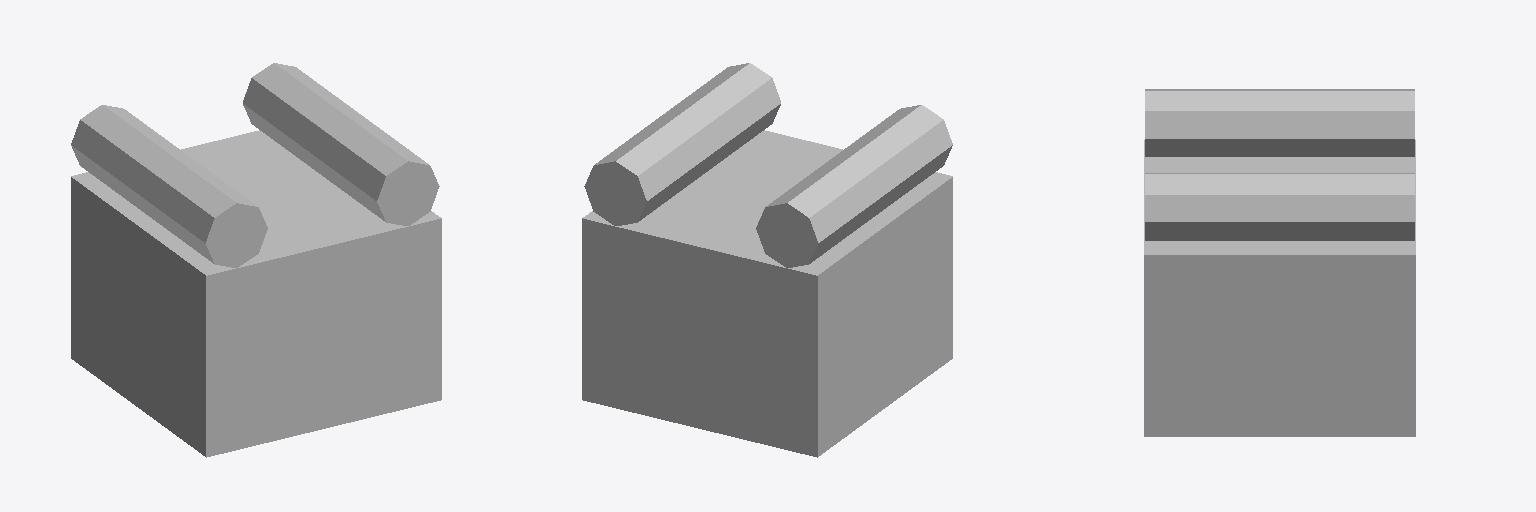
Rendered from TracksBox.obj.
3 renders of one model, left to right at view 1: azimuth 30°, elevation 25°; view 2: azimuth 150°, elevation 25°; view 3: azimuth 270°, elevation 25°, orthographic.
Parts seen in each view (by area): view 1: Cube, Cylinder.001, Cylinder; view 2: Cube, Cylinder.001, Cylinder; view 3: Cube, Cylinder.001, Cylinder.
Part boxes in pixels (bbox=[...]): Cube: bbox=[71, 130, 441, 457]; Cylinder.001: bbox=[243, 63, 439, 225]; Cylinder: bbox=[71, 105, 267, 267]; Cube: bbox=[582, 130, 952, 457]; Cylinder.001: bbox=[584, 63, 780, 225]; Cylinder: bbox=[756, 105, 952, 267]; Cube: bbox=[1144, 140, 1415, 436]; Cylinder.001: bbox=[1145, 173, 1414, 240]; Cylinder: bbox=[1145, 89, 1414, 156].
Size of the model in its own units: 1 by 1 by 1.